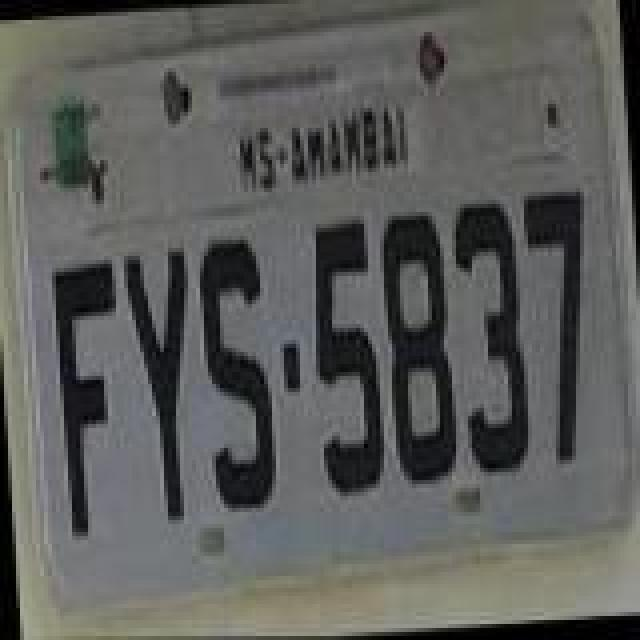3: (454, 200, 538, 484)
5: (306, 214, 390, 502)
7: (518, 184, 602, 464)
8: (376, 208, 464, 492)
F: (54, 258, 138, 542)
S: (198, 232, 282, 516)
Y: (122, 246, 206, 522)
